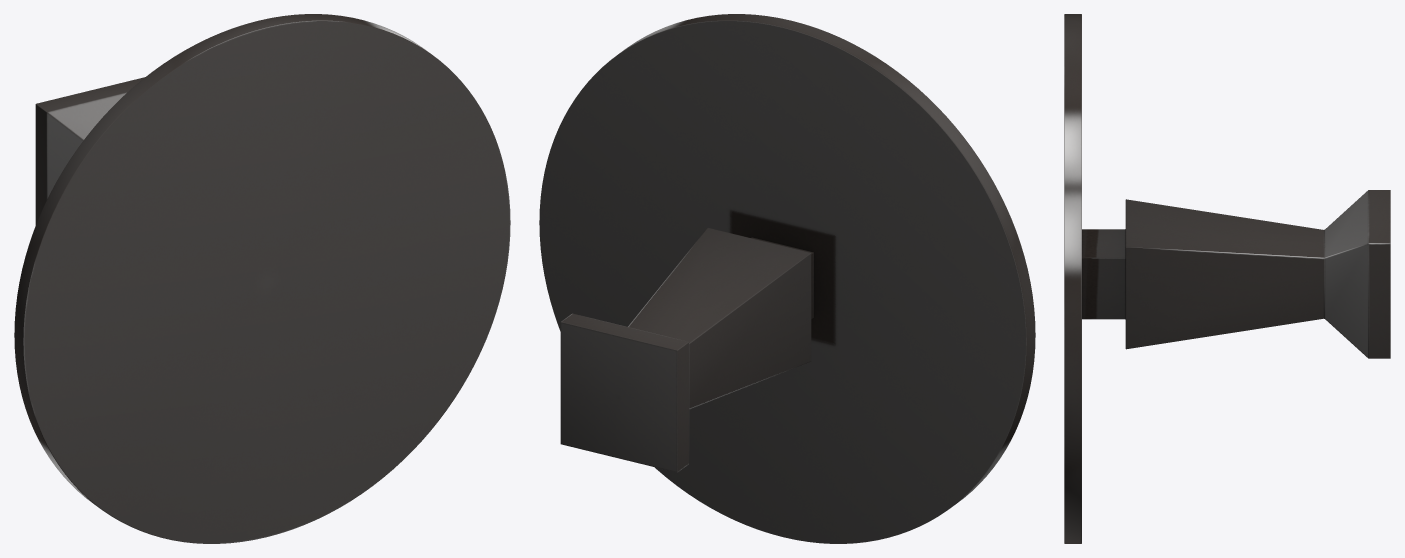
Rendered from raw_model.glb.
3 views of the same model, side by side, from view 1: azimuth 30°, elevation 25°; view 2: azimuth 150°, elevation 25°; view 3: azimuth 270°, elevation 25° (orthographic). The views are drawn at different scales.
Visible parts, largest first — view 1: solid.001; view 2: solid.001; view 3: solid.001.
Boxes of the visible parts, x1=… form: solid.001: x1=14, y1=14, x2=510, y2=543; solid.001: x1=539, y1=14, x2=1035, y2=543; solid.001: x1=1064, y1=14, x2=1390, y2=543.
Size of the model in its own units: 1.2 by 1.2 by 0.7389.
1 material, 1 textured.
